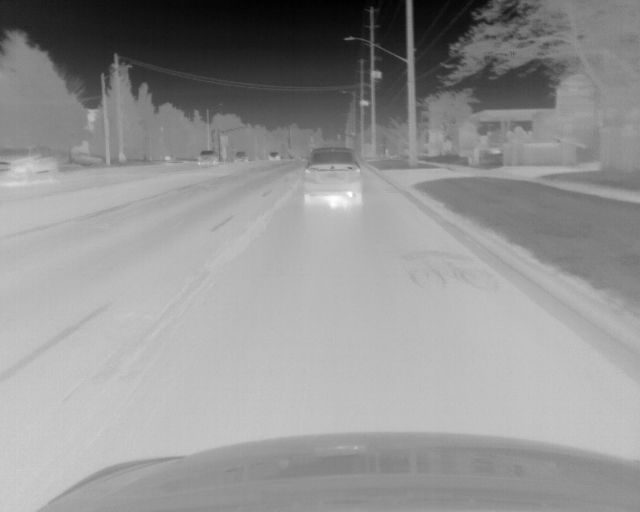car: (304, 148, 363, 205), (1, 144, 59, 182), (199, 150, 217, 165), (234, 150, 250, 162), (268, 151, 282, 161)
